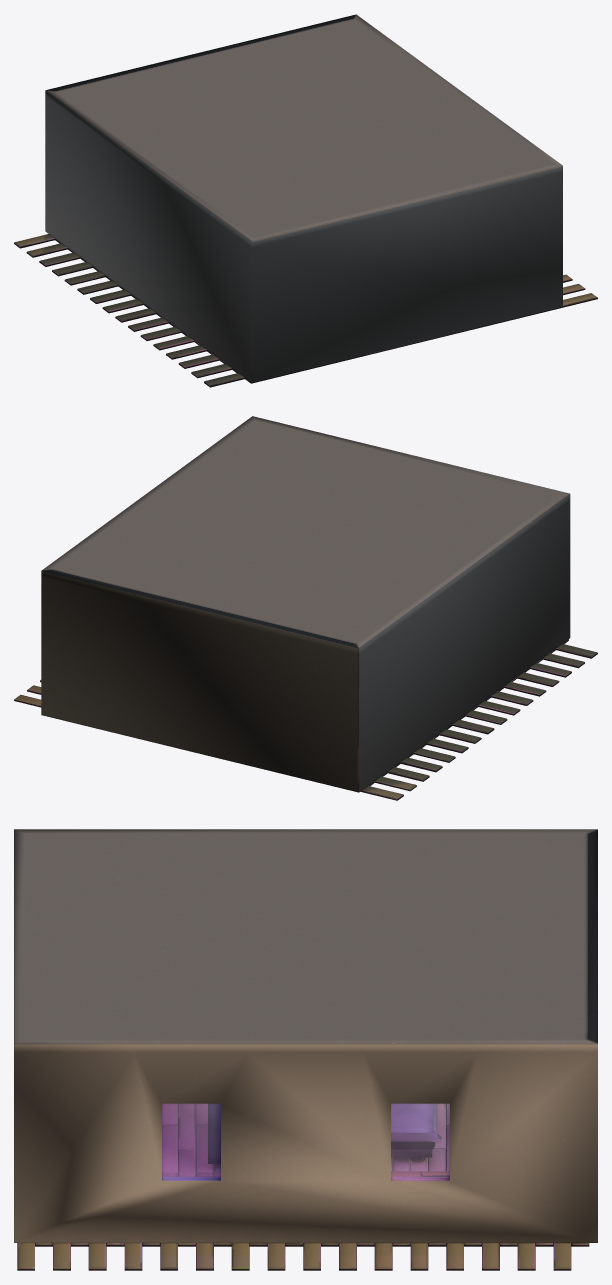
File: timeshot-room2.glb
3 views of the same model, one above another, from view 1: azimuth 30°, elevation 25°; view 2: azimuth 150°, elevation 25°; view 3: azimuth 270°, elevation 25° (orthographic). The views are drawn at different scales.
Parts seen in each view (by area): view 1: room; view 2: room; view 3: room.
Boxes of the visible parts, x1,y1,x2,y2 form: room: [14, 14, 597, 387]; room: [14, 416, 597, 800]; room: [14, 829, 597, 1270].
Size of the model in its own units: 35.65 by 12.77 by 33.46.
Materials: 34 (34 with a texture image).
